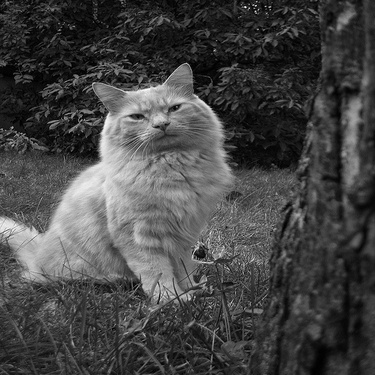cat: (5, 61, 237, 303)
